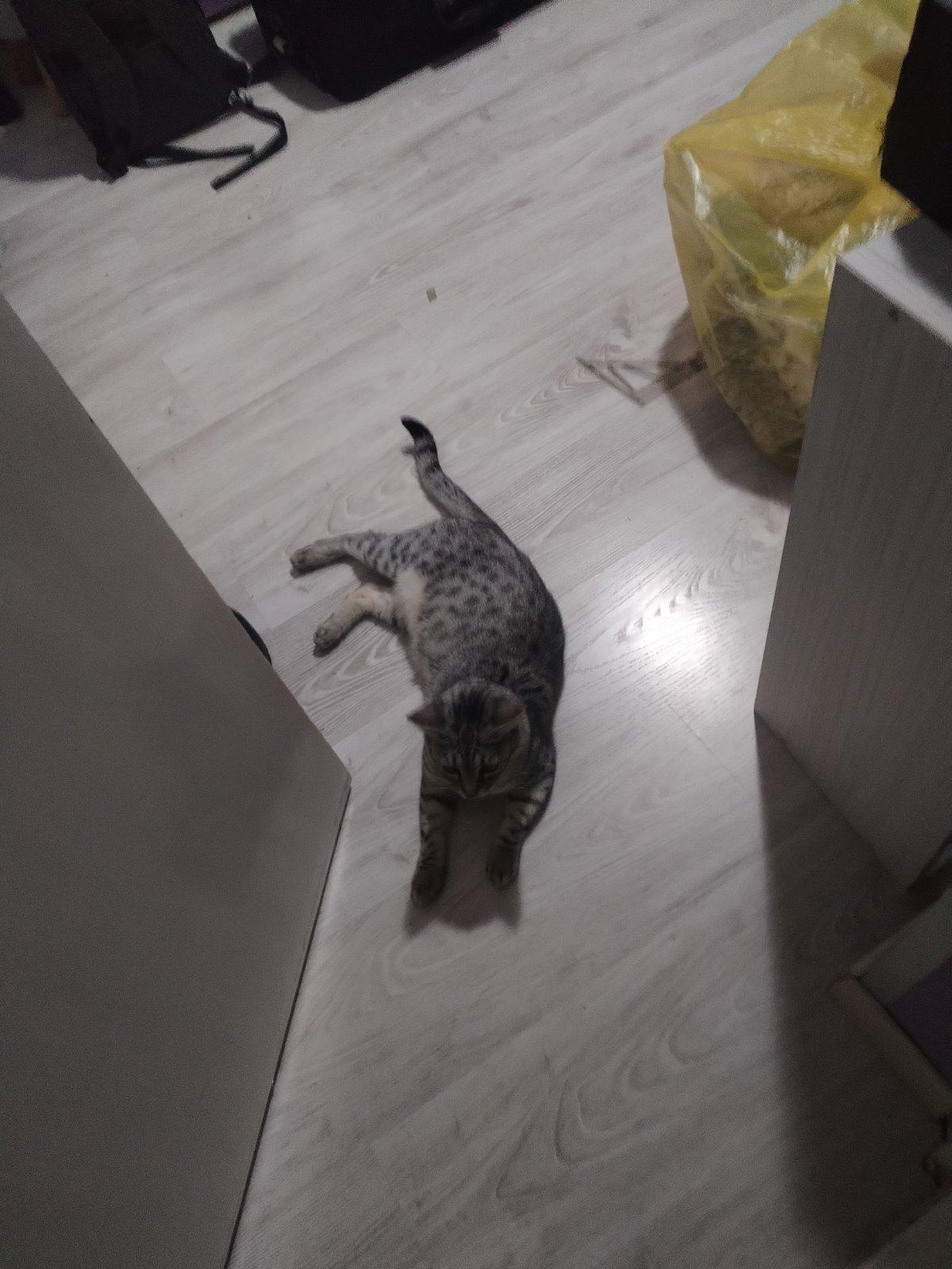macka: (287, 417, 568, 906)
